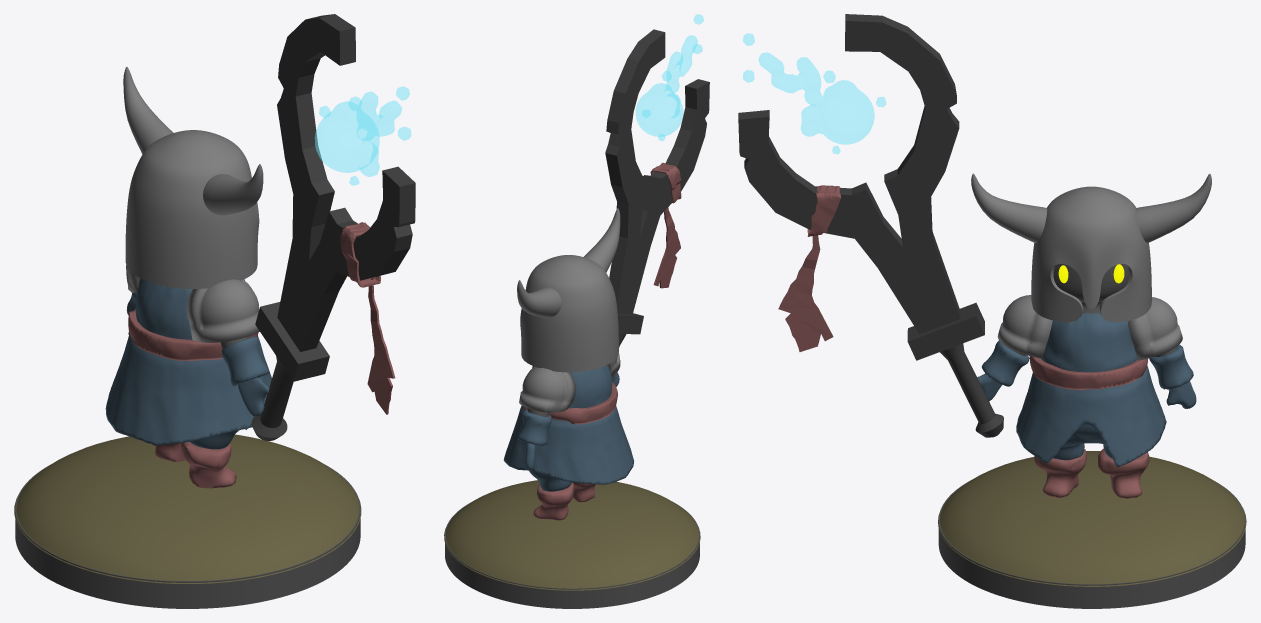
The model's file is рыцарь.fbx.
3 renders of one model, left to right at view 1: azimuth 30°, elevation 25°; view 2: azimuth 150°, elevation 25°; view 3: azimuth 270°, elevation 25°, orthographic. The views are drawn at different scales.
Visible parts, largest first — view 1: щит, Mball.016, шлем, Cube.001, щит1, Mball.006, Cube.006, Mball.001, Mball.002, Cube.005, рог, Cube.004 (+4 smaller); view 2: щит, Mball.016, шлем, Cube.001, щит1, Mball.006, Cube.007, Mball.001, рог.001, Cube.005, Cube.003, рог (+4 smaller); view 3: щит, Mball.016, Cube.001, шлем, щит1, Mball.006, Mball.001, Cube.006, Cube.007, Cube.005, Mball.002, рог (+8 smaller).
Boxes of the visible parts, x1,y1,x2,y2 form: щит: (14,434,361,583); Mball.016: (277,14,415,351); шлем: (125,130,259,288); Cube.001: (105,279,271,445); щит1: (15,464,360,608); Mball.006: (314,86,411,185); Cube.006: (187,279,259,342); Mball.001: (340,222,395,414); Mball.002: (255,302,329,381); Cube.005: (128,308,258,360); рог: (203,164,263,215); Cube.004: (181,442,236,488); щит: (444,480,700,590); Mball.016: (605,29,709,314); шлем: (520,255,618,372); Cube.001: (503,364,633,484); щит1: (445,501,699,608); Mball.006: (635,14,703,140); Cube.007: (519,366,575,412); Mball.001: (650,162,681,288); рог.001: (517,280,561,317); Cube.005: (524,382,617,424); Cube.003: (533,482,573,520); рог: (583,208,620,272); щит: (938,451,1246,586); Mball.016: (738,14,960,334); Cube.001: (1016,313,1166,466); шлем: (1031,186,1151,322); щит1: (938,480,1245,608); Mball.006: (743,33,886,154); Mball.001: (778,185,840,351); Cube.006: (997,295,1052,358); Cube.007: (1128,297,1182,360); Cube.005: (1029,356,1147,390); Mball.002: (907,302,984,360); рог: (971,173,1047,242).
Bounding box in the file's own units: 165 × 316 × 272.
